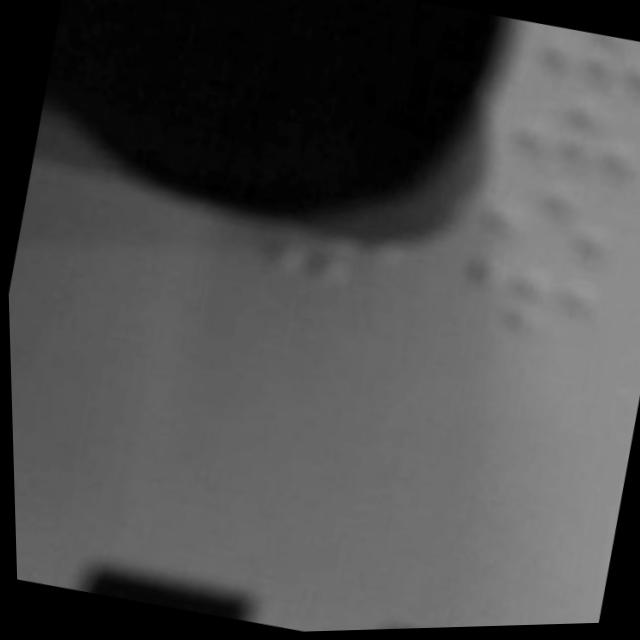braiile: (444, 250, 621, 360), (476, 164, 640, 280), (491, 84, 640, 193), (512, 21, 640, 110)
